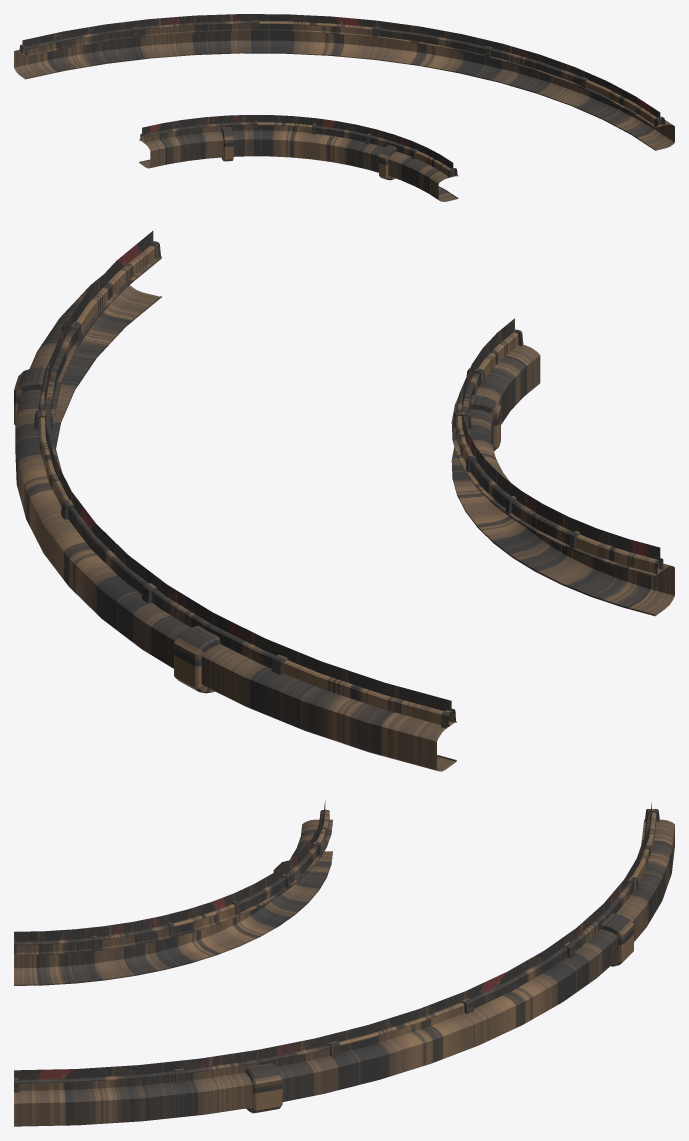
File: Mur_V_90x2.fbx
3 renders of one model, top to bottom at view 1: azimuth 30°, elevation 25°; view 2: azimuth 150°, elevation 25°; view 3: azimuth 270°, elevation 25°, orthographic. The views are drawn at different scales.
Visible parts, largest first — view 1: polySurface191; view 2: polySurface191; view 3: polySurface191.
Part boxes in pixels (x1=…): polySurface191: x1=14, y1=14, x2=674, y2=201; polySurface191: x1=14, y1=231, x2=674, y2=771; polySurface191: x1=14, y1=800, x2=674, y2=1126.
Size of the model in its own units: 26.6 by 2.5 by 26.6.
